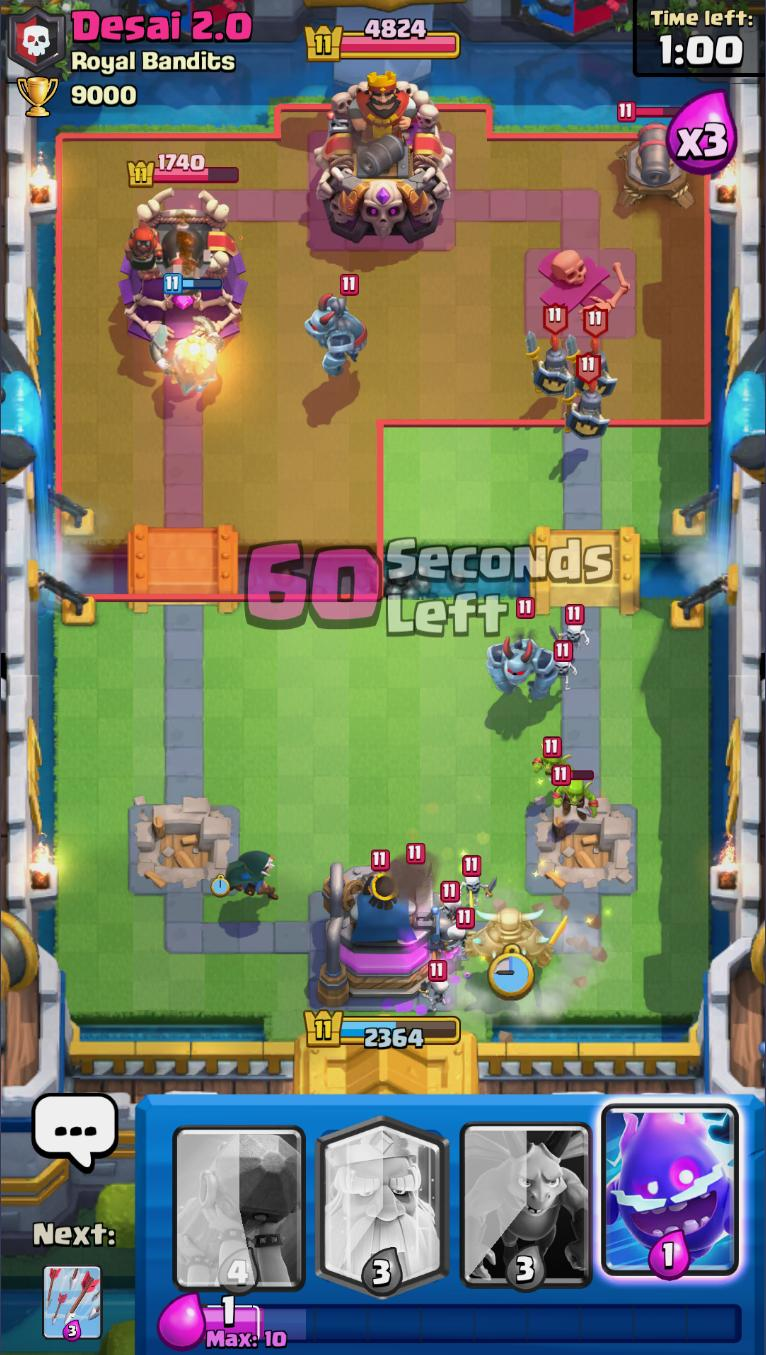ArrowNext: (41, 1261, 101, 1346)
BattleRamDeck: (167, 1094, 313, 1294)
Cannon: (614, 99, 696, 213)
Cannoneer: (127, 216, 207, 300)
ElectroSpiritDeck: (596, 1096, 741, 1293)
Elixir: (203, 1296, 743, 1346)
EnemyTower: (121, 187, 250, 343)
EnemyTowerBrocken: (523, 244, 641, 344)
Goblin: (550, 761, 600, 819), (533, 736, 570, 781)
Guards: (526, 304, 579, 401), (567, 307, 620, 397), (561, 353, 611, 440)
KingTower: (314, 77, 456, 246)
MegaMinion: (487, 593, 559, 704), (304, 273, 374, 380)
MinionsDeck: (456, 1096, 597, 1293)
MyBandit: (226, 846, 283, 906)
MyKingTower: (319, 860, 457, 1011)
MyPekka: (463, 890, 567, 980)
MyPrincessTowerBrocken: (527, 793, 641, 890), (127, 797, 236, 890)
MyRoyaleGhost: (149, 271, 229, 396)
RoyaleGhostDeck: (310, 1094, 456, 1299)
Skeleton: (549, 603, 593, 651), (459, 851, 501, 900), (444, 907, 474, 957), (551, 639, 580, 689), (423, 959, 450, 1010), (437, 881, 461, 926)
TowerPrincessHP: (129, 153, 241, 189)
